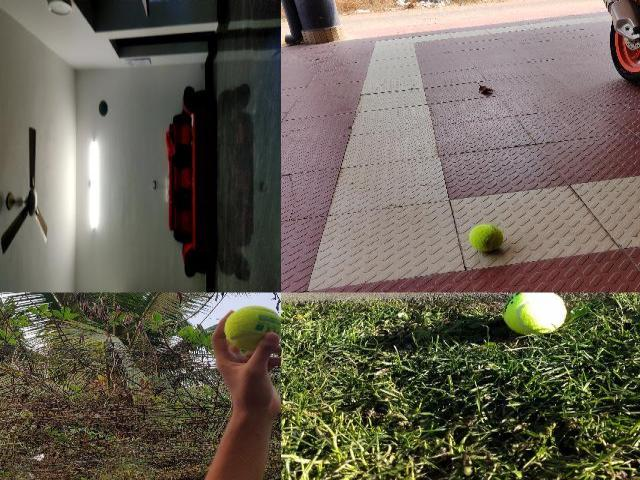tennis-ball: (501, 292, 567, 336), (223, 306, 280, 352), (469, 224, 503, 250), (98, 100, 107, 116)
